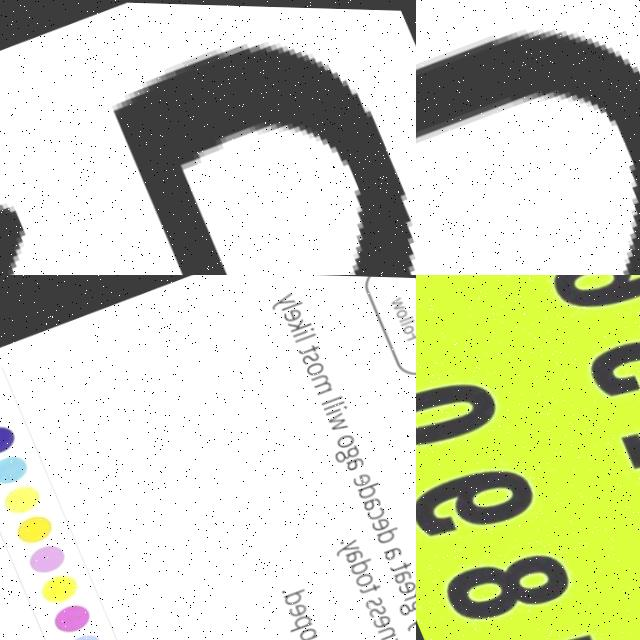0: (416, 339, 517, 481)
4: (604, 374, 640, 518)
5: (566, 294, 640, 425)
6: (523, 275, 640, 341)
7: (444, 599, 631, 640)
8: (419, 523, 588, 640)
9: (416, 432, 553, 570)
E: (103, 36, 410, 275)
N: (416, 0, 640, 275)
